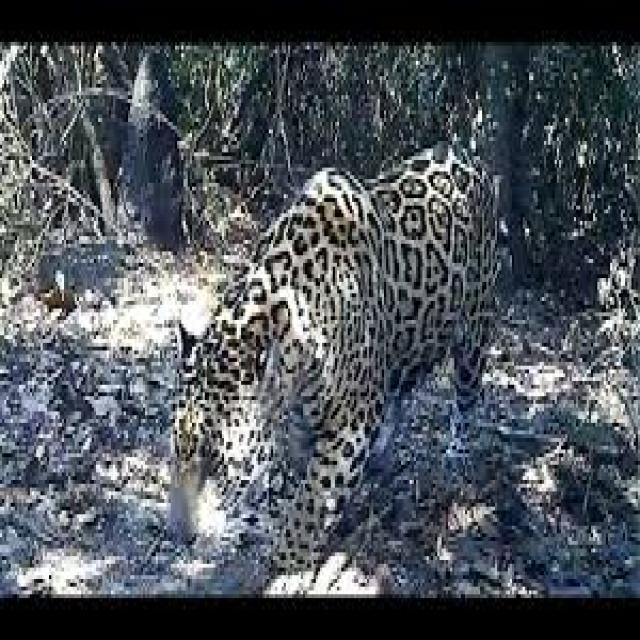Jaguar: (175, 156, 499, 514)
